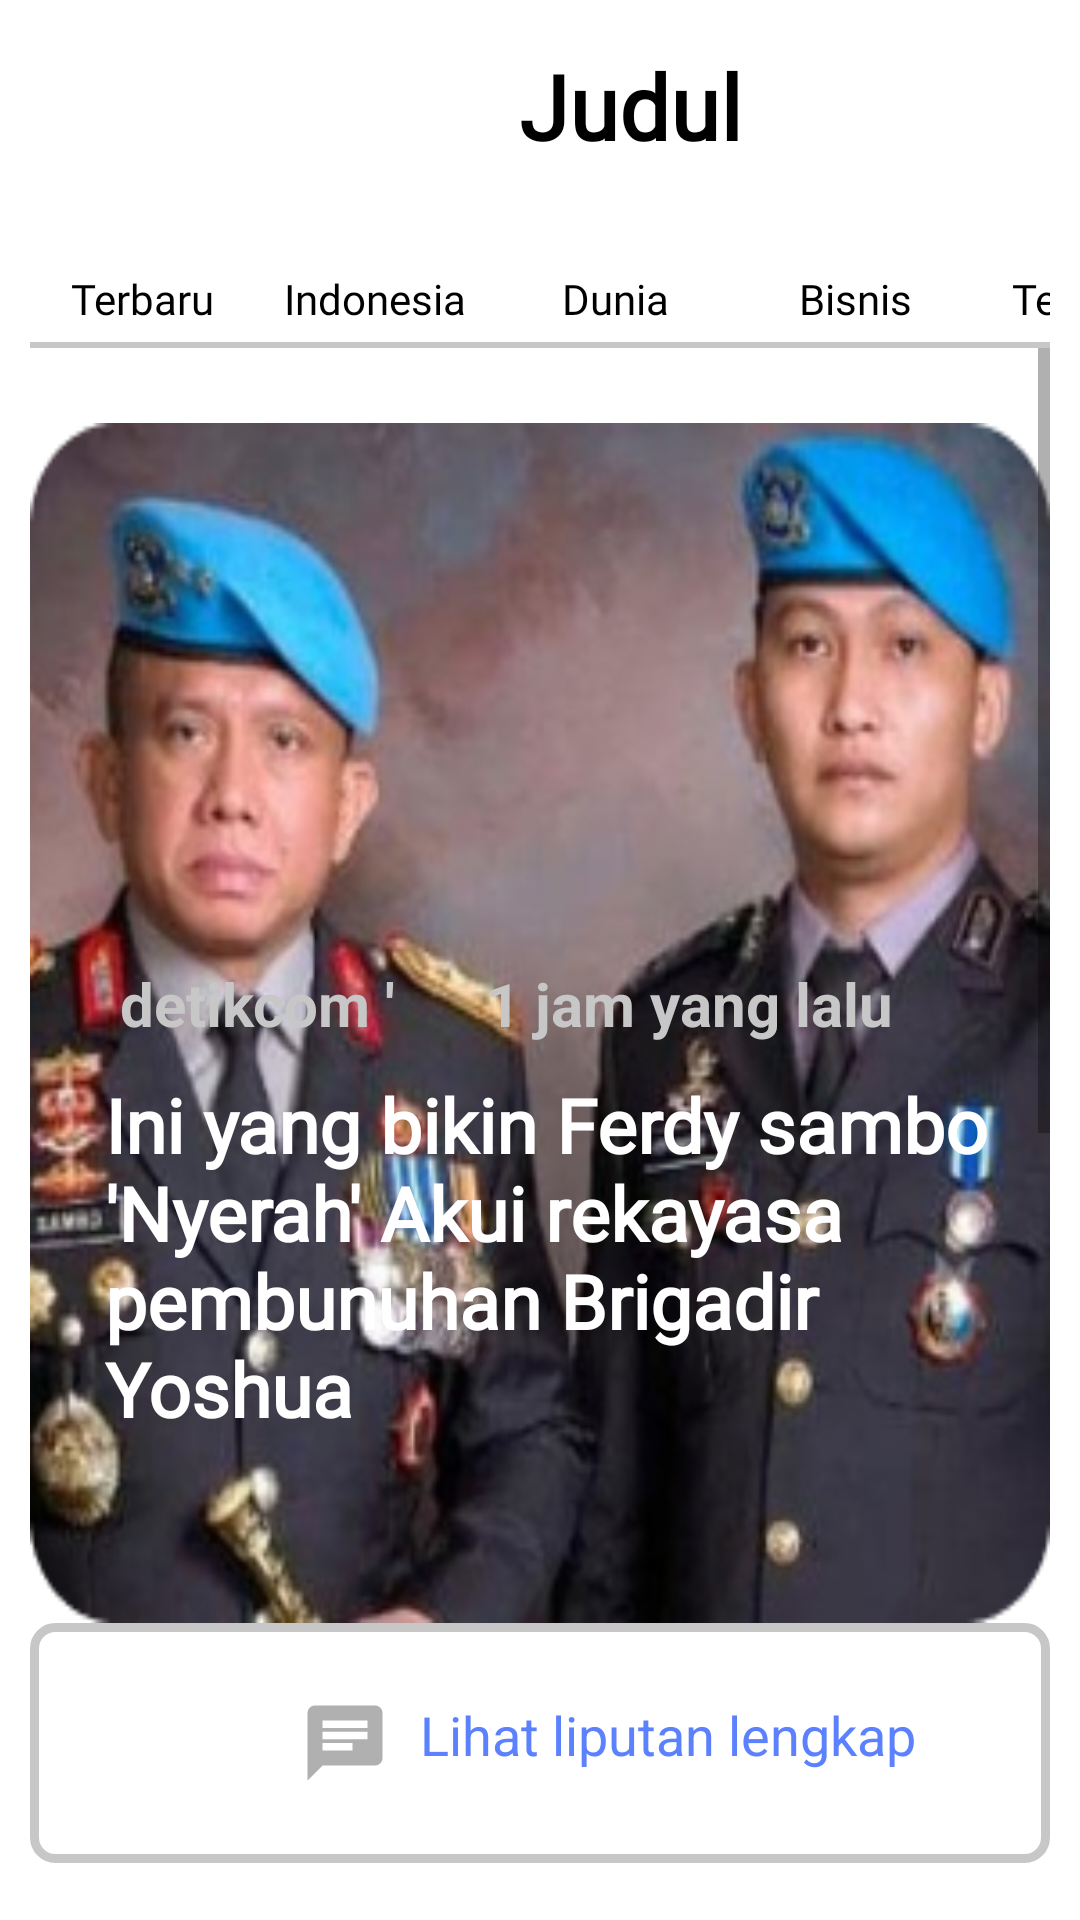

Named icons in this screenshot (1080 x 1920) and their centers, point (x, y):
chat: point (345, 1742)
